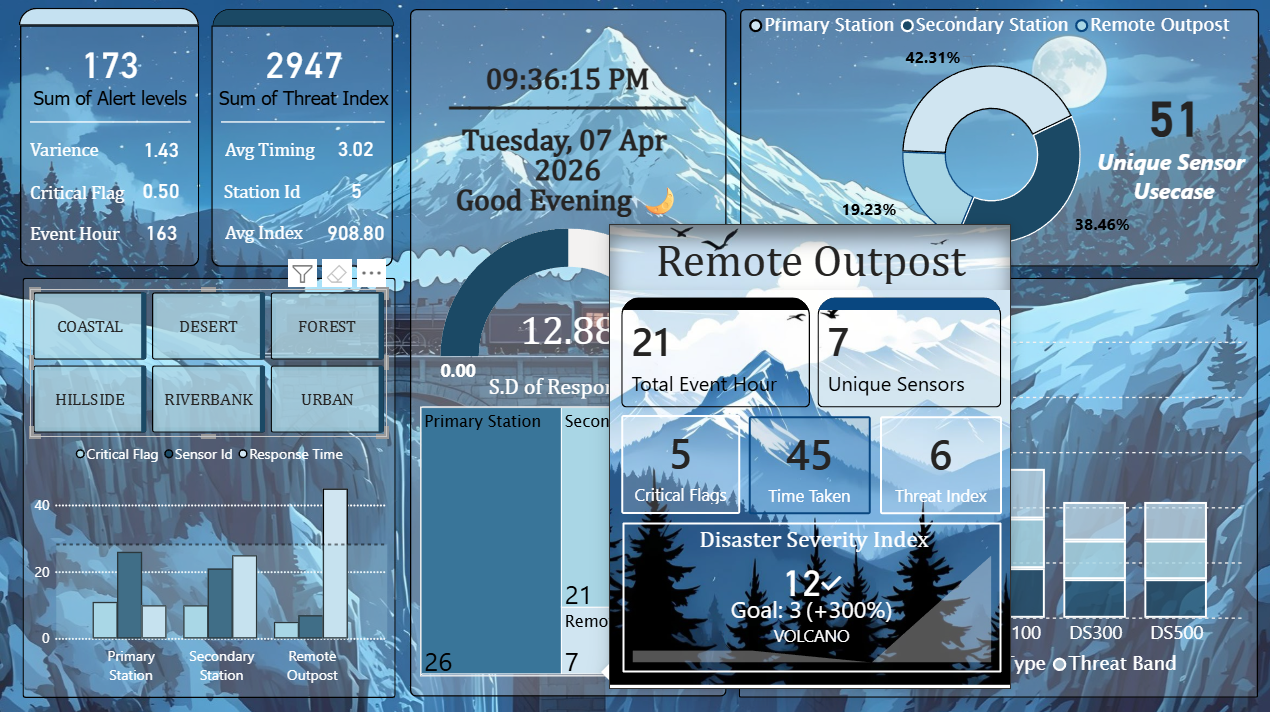

This screenshot's page, from the dashboard's own definition file:
{"tool":"powerbi","page":{"name":"Disaster Monitoring Dashboard","canvas":[1920,1080],"ordinal":0},"visuals":[{"type":"shape","box":[1116,420,784,634],"z":0},{"type":"shape","box":[34.4,420,563.3,634.4],"z":1000},{"type":"columnChart","fields":{"Category":["Sheet3.station_id"],"Y":["CountNonNull(Sheet3.region)","CountNonNull(Sheet3.disaster_type)","CountNonNull(Sheet3.threat_band)"]},"box":[1146,462,734,568],"z":2000},{"type":"shape","box":[1116.4,14.5,783.6,389.1],"z":3000},{"type":"donutChart","fields":{"Category":["Sheet2.station_type"],"Y":["Sum(Sheet3.critical_flag)"]},"box":[1108.7,13,771.7,400],"z":4000},{"type":"card","fields":{"Values":["Count(Sheet3.sensor_id)"]},"box":[1646,8,254,370],"z":5000},{"type":"lineClusteredColumnComboChart","fields":{"Category":["Sheet2.station_type"],"Y":["Sum(Sheet3.critical_flag)","CountNonNull(Sheet3.sensor_id)","Median(Sheet2.response_time_mins)"]},"box":[47.5,662.5,542.5,380],"z":6000},{"type":"shape","box":[29,14,272,27],"z":7000},{"type":"shape","box":[30,40,270.6,364.1],"z":8000},{"type":"shape","box":[319.4,40.3,274.2,364.5],"z":9000},{"type":"shape","box":[320,15,274,26],"z":10000},{"type":"card","fields":{"Values":["Sum(Sheet3.alert_level)"]},"box":[30,34,272,152],"z":11000},{"type":"shape","box":[45.6,171.1,242.2,27.8],"z":12000},{"type":"card","fields":{"Values":["Sum(Sheet3.alert_level)"]},"box":[175,197.5,136.2,55],"z":13000},{"type":"card","fields":{"Values":["Sum(Sheet3.critical_flag)"]},"box":[176.2,261.2,135.6,55],"z":14000},{"type":"card","fields":{"Values":["Sum(Sheet3.event_hour)"]},"box":[176.2,323.1,136.9,56.2],"z":15000},{"type":"shape","title":"Varience","box":[46.2,211.4,150,32.6],"z":16000},{"type":"shape","title":"Event Hour","box":[46,337,175,33],"z":17000},{"type":"shape","title":"Critical Flag","box":[46,275,150,33],"z":18000},{"type":"card","fields":{"Values":["Sum(Sheet3.threat_index)"]},"box":[322.2,34.4,272.2,151.1],"z":19000},{"type":"shape","box":[334.4,171.1,246.7,27.8],"z":20000},{"type":"card","fields":{"Values":["Avg(Sheet3.event_hour)"]},"box":[470,196.9,135,55.6],"z":21000},{"type":"card","fields":{"Values":["Count(Sheet3.station_id)"]},"box":[469.4,260.6,136.2,55.6],"z":22000},{"type":"card","fields":{"Values":["Sum(Sheet3.threat_index)"]},"box":[470,322.5,135,55.8],"z":23000},{"type":"shape","title":"Avg Index","box":[340,336.7,175,33.3],"z":24000},{"type":"shape","title":"Station Id","box":[338.1,274.4,150,33.1],"z":25000},{"type":"shape","title":"Avg Timing","box":[340,211.2,150,33.1],"z":26000},{"type":"shape","box":[618,16,478,1038],"z":27000},{"type":"treemap","fields":{"Group":["Sheet2.station_type"],"Values":["CountNonNull(Sheet3.event_time)"]},"box":[634,616,444,406],"z":28000},{"type":"gauge","title":"S.D. of Response Time","fields":{"Y":["CountNonNull(Sheet2.response_time_mins)"]},"box":[636,342,444,248],"z":29000},{"type":"shape","title":"S.D of Response","box":[738,564,276,52],"z":30000},{"type":"card","fields":{"Values":["Sheet1 (2).Current DateTime"]},"box":[650,54,412,308],"z":31000},{"type":"advancedSlicerVisual","fields":{"Values":["Sheet3.region"]},"box":[45.7,438.6,540,222.9],"z":32000}]}

Visuals, with their boxes in screenshot pixels (x1, y1, x2, y2), scaled from the page's 1920x1080 canvas onto the 1270x712 screenshot:
shape: BBox(738, 277, 1257, 695)
shape: BBox(23, 277, 395, 695)
columnChart - Sheet3.station_id x CountNonNull(Sheet3.region): BBox(758, 305, 1244, 679)
shape: BBox(738, 10, 1257, 266)
donutChart - Sheet2.station_type x Sum(Sheet3.critical_flag): BBox(733, 9, 1244, 272)
card - Count(Sheet3.sensor_id): BBox(1089, 5, 1257, 249)
lineClusteredColumnComboChart - Sheet2.station_type x Sum(Sheet3.critical_flag): BBox(31, 437, 390, 687)
shape: BBox(19, 9, 199, 27)
shape: BBox(20, 26, 199, 266)
shape: BBox(211, 27, 393, 267)
shape: BBox(212, 10, 393, 27)
card - Sum(Sheet3.alert_level): BBox(20, 22, 200, 123)
shape: BBox(30, 113, 190, 131)
card - Sum(Sheet3.alert_level): BBox(116, 130, 206, 166)
card - Sum(Sheet3.critical_flag): BBox(117, 172, 206, 208)
card - Sum(Sheet3.event_hour): BBox(117, 213, 207, 250)
"Varience" shape: BBox(31, 139, 130, 161)
"Event Hour" shape: BBox(30, 222, 146, 244)
"Critical Flag" shape: BBox(30, 181, 130, 203)
card - Sum(Sheet3.threat_index): BBox(213, 23, 393, 122)
shape: BBox(221, 113, 384, 131)
card - Avg(Sheet3.event_hour): BBox(311, 130, 400, 166)
card - Count(Sheet3.station_id): BBox(310, 172, 401, 208)
card - Sum(Sheet3.threat_index): BBox(311, 213, 400, 249)
"Avg Index" shape: BBox(225, 222, 341, 244)
"Station Id" shape: BBox(224, 181, 323, 203)
"Avg Timing" shape: BBox(225, 139, 324, 161)
shape: BBox(409, 11, 725, 695)
treemap - Sheet2.station_type x CountNonNull(Sheet3.event_time): BBox(419, 406, 713, 674)
"S.D. of Response Time" gauge: BBox(421, 225, 714, 389)
"S.D of Response" shape: BBox(488, 372, 671, 406)
card - Sheet1 (2).Current DateTime: BBox(430, 36, 702, 239)
advancedSlicerVisual - Sheet3.region: BBox(30, 289, 387, 436)
